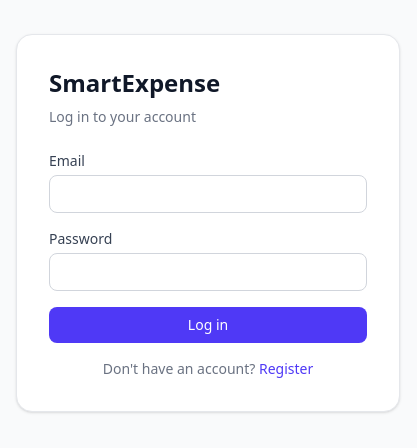
Test: LoginPage › shows an error message when login fails
Type "user@example.com" into the field labelled "Email" at (208, 194), box x1=49 y1=175 x2=367 y2=213
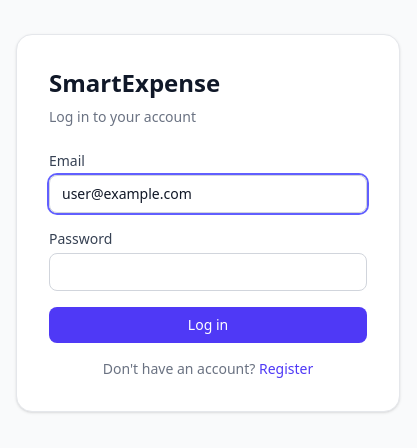
Type "wrongpass" into the password field labelled "Password" at (208, 272), box x1=49 y1=253 x2=367 y2=291
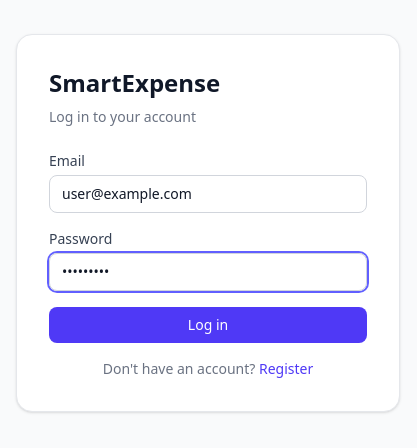
Click the button "Log in" at (208, 325), box x1=49 y1=307 x2=367 y2=343
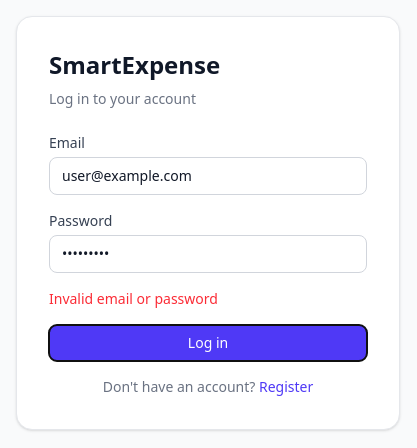
Now the text "Invalid email or password" is shown, box x1=49 y1=289 x2=218 y2=308
